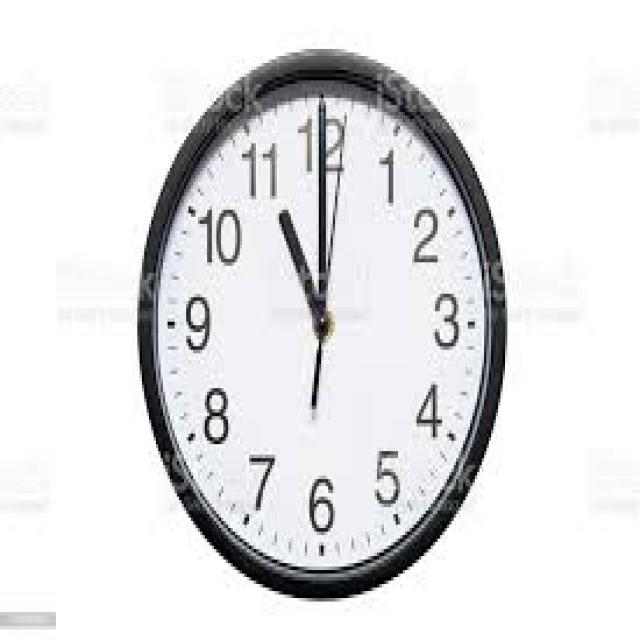Clocks-images: (138, 55, 506, 607)
